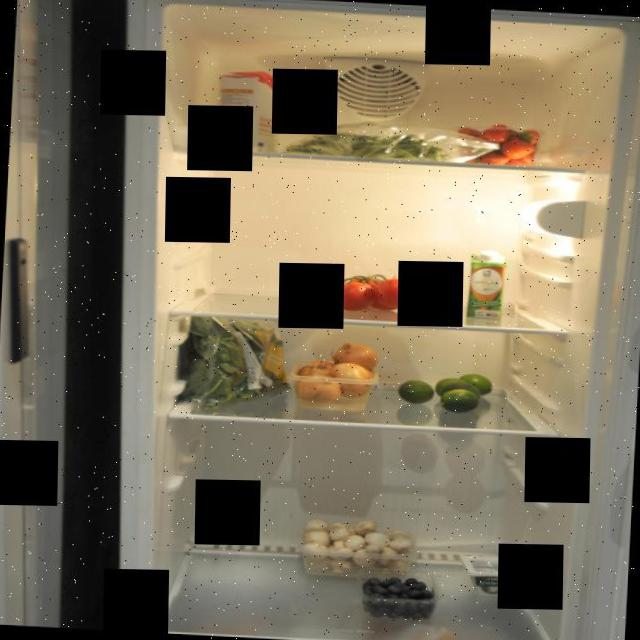Cebolla: (288, 338, 382, 411)
Champiñones: (296, 512, 424, 583)
Queso: (457, 554, 528, 598)
Tomate: (303, 267, 415, 315)
blueberries: (355, 564, 444, 620)
green_beans: (286, 114, 457, 164)
heavy_cream: (465, 248, 507, 320)
spinach: (178, 312, 293, 416)
strawberries: (446, 119, 540, 169)
sugar: (212, 66, 286, 152)
